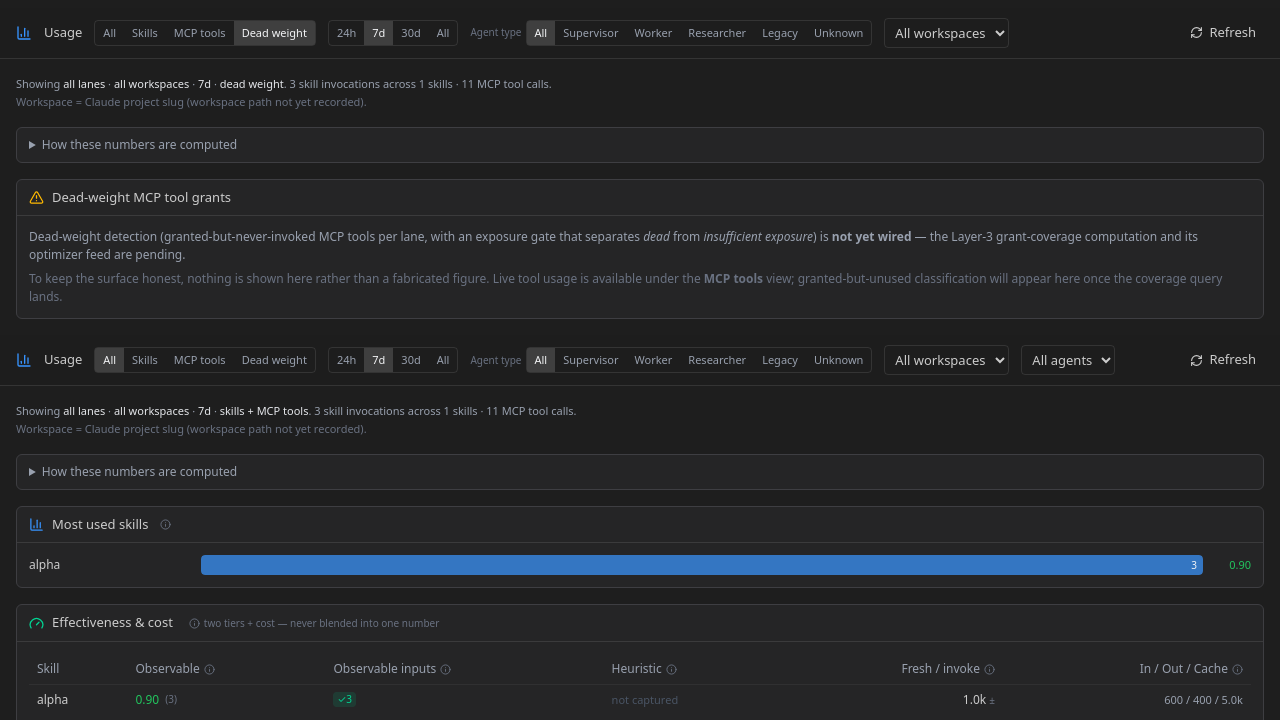
Test: SkillAnalyticsPanel (Usage) › scope line reflects the active lane filter
(page scrolled)
# Pick the "Worker" agent-type filter.
Click the 2nd button "Worker". click: (653, 360)
box: [626,348,680,372]
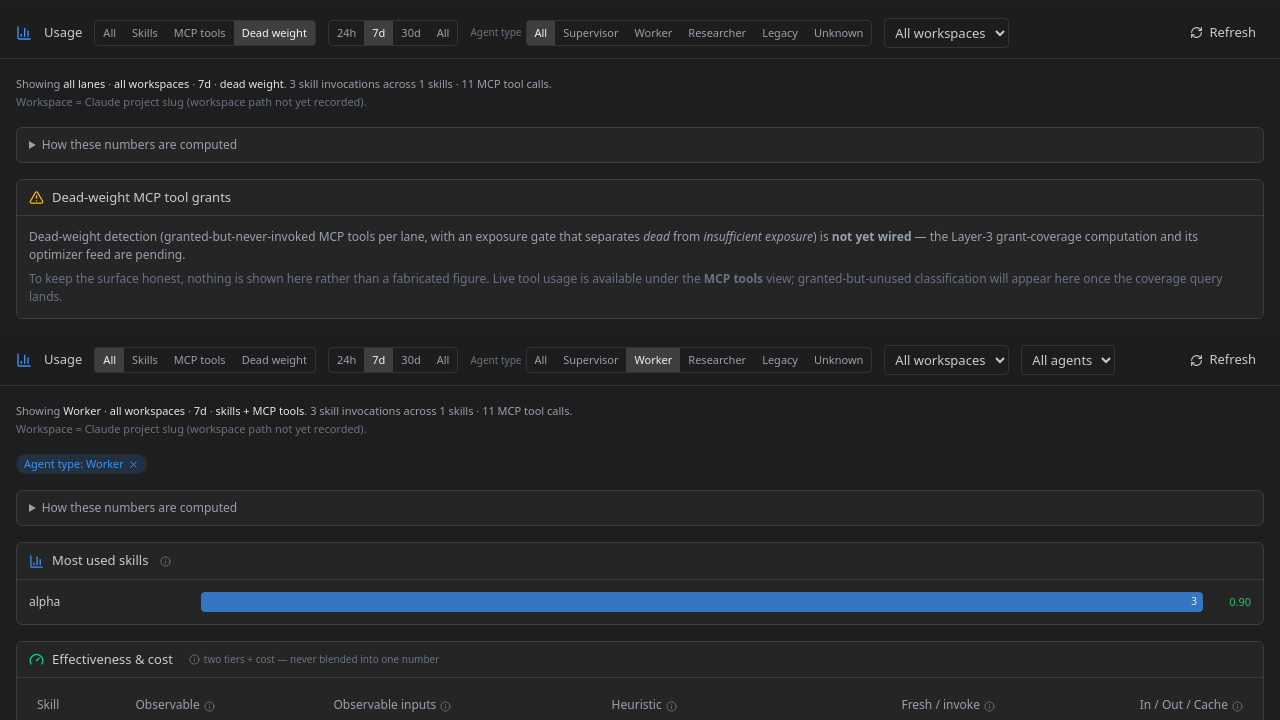
Result: the text "Agent type: Worker" is shown at [16,454,147,474]
